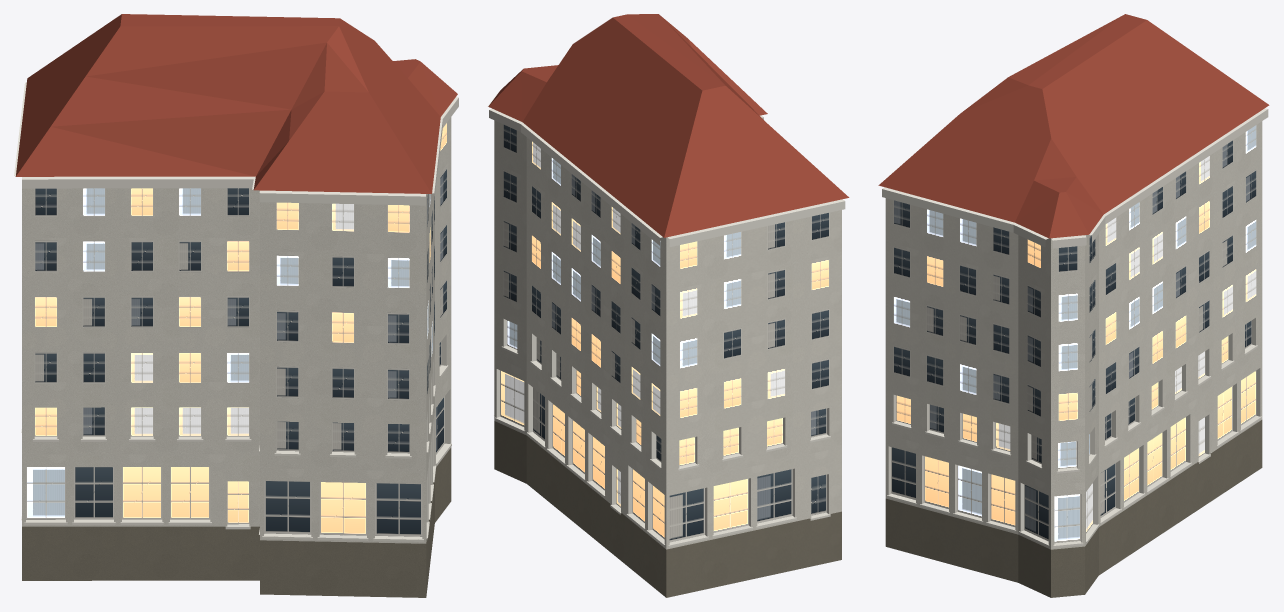
File: z3c_hohl_white.glb
3 renders of one model, left to right at view 1: azimuth 30°, elevation 25°; view 2: azimuth 150°, elevation 25°; view 3: azimuth 270°, elevation 25°, orthographic. The views are drawn at different scales.
Parts seen in each view (by area): view 1: z3c_hohl_white; view 2: z3c_hohl_white; view 3: z3c_hohl_white.
Boxes of the visible parts, box(x1,y1,x2,y2) form: z3c_hohl_white: box(14, 14, 458, 597); z3c_hohl_white: box(487, 14, 849, 597); z3c_hohl_white: box(878, 14, 1269, 597).
Bounding box in the file's own units: 24.21 × 28.52 × 22.06.
Materials: 3 (3 with a texture image).
